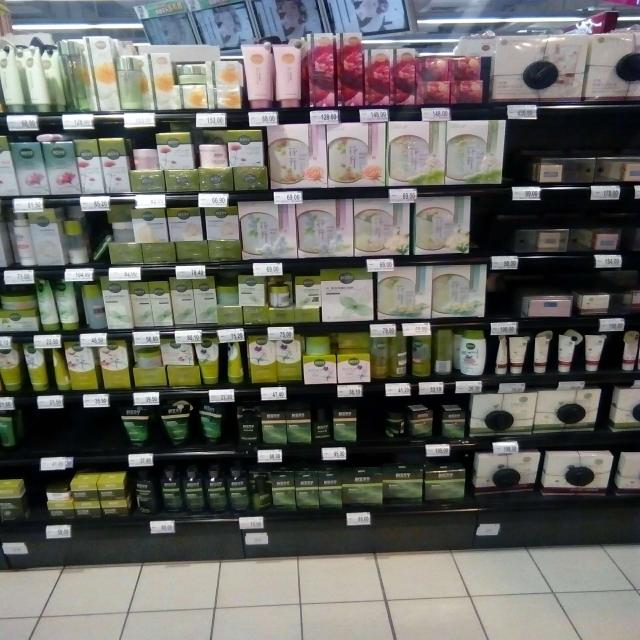empty: (11, 406, 128, 456)
